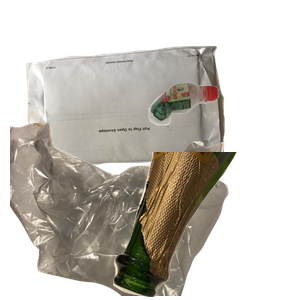glass: (111, 152, 300, 300)
paper: (24, 43, 242, 202)
plastic: (146, 80, 300, 198)
trash: (10, 120, 231, 300)
